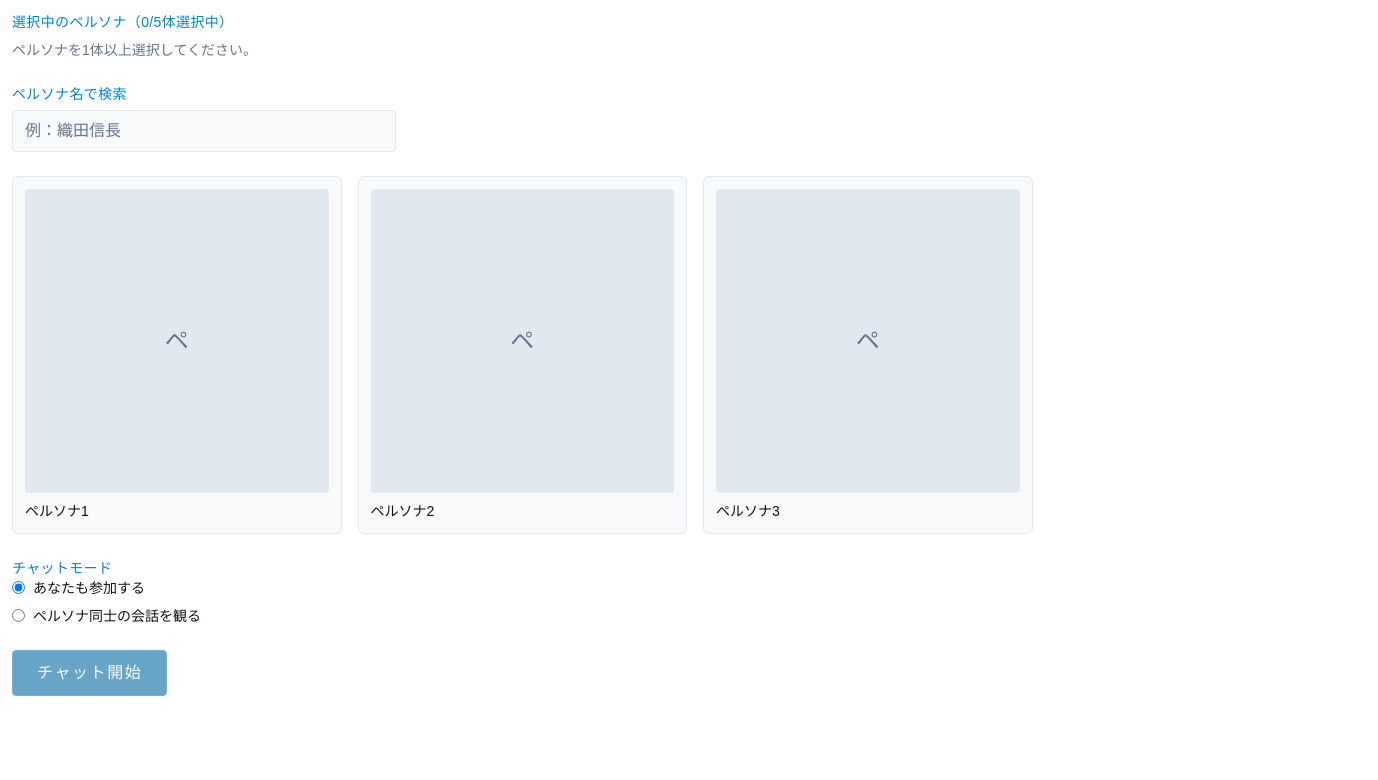
Test: PersonaSelector › 作成失敗時はエラーメッセージを表示し、選択状態を保持する
The image size is (1378, 780).
Click the button "ペ ペルソナ1". click: (177, 355)
box: [12, 176, 342, 534]
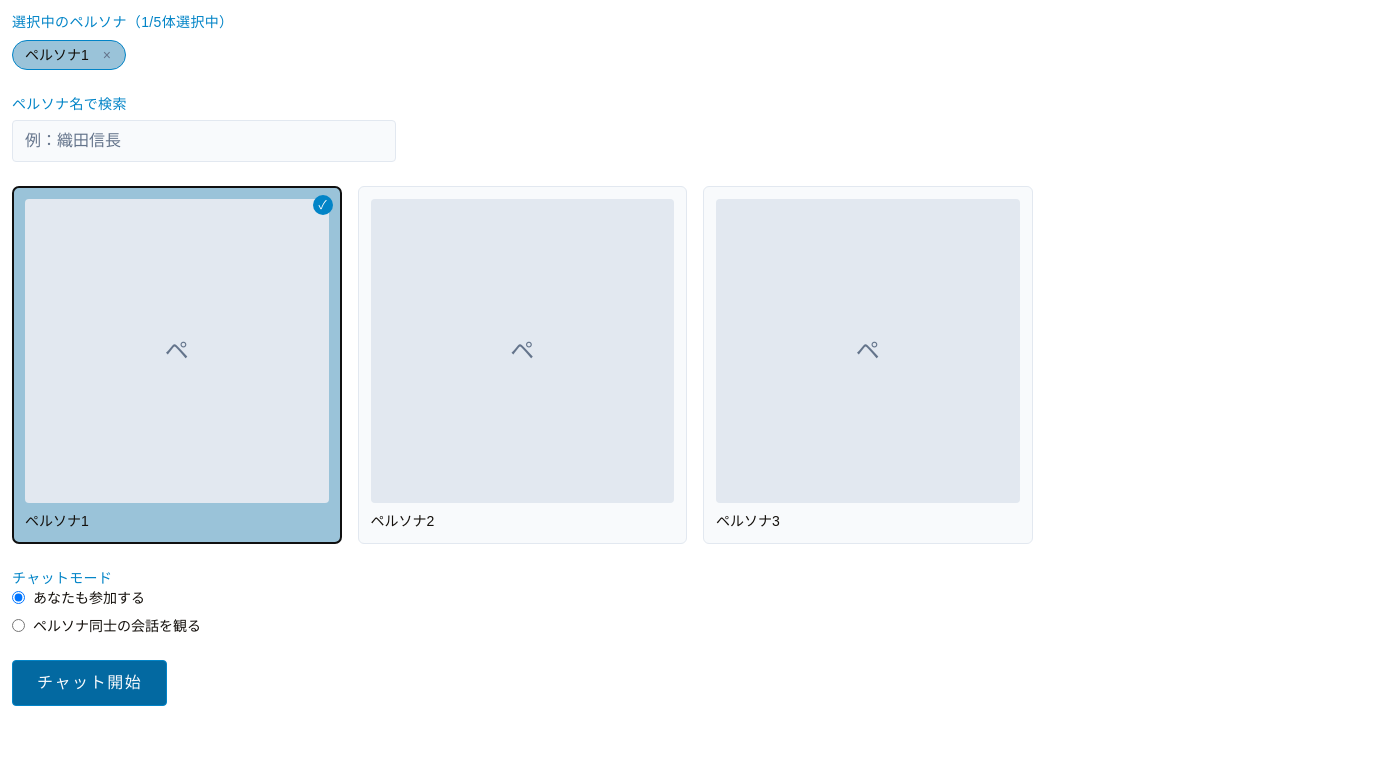
Click the button "チャット開始". click: (90, 682)
box: [12, 660, 168, 706]
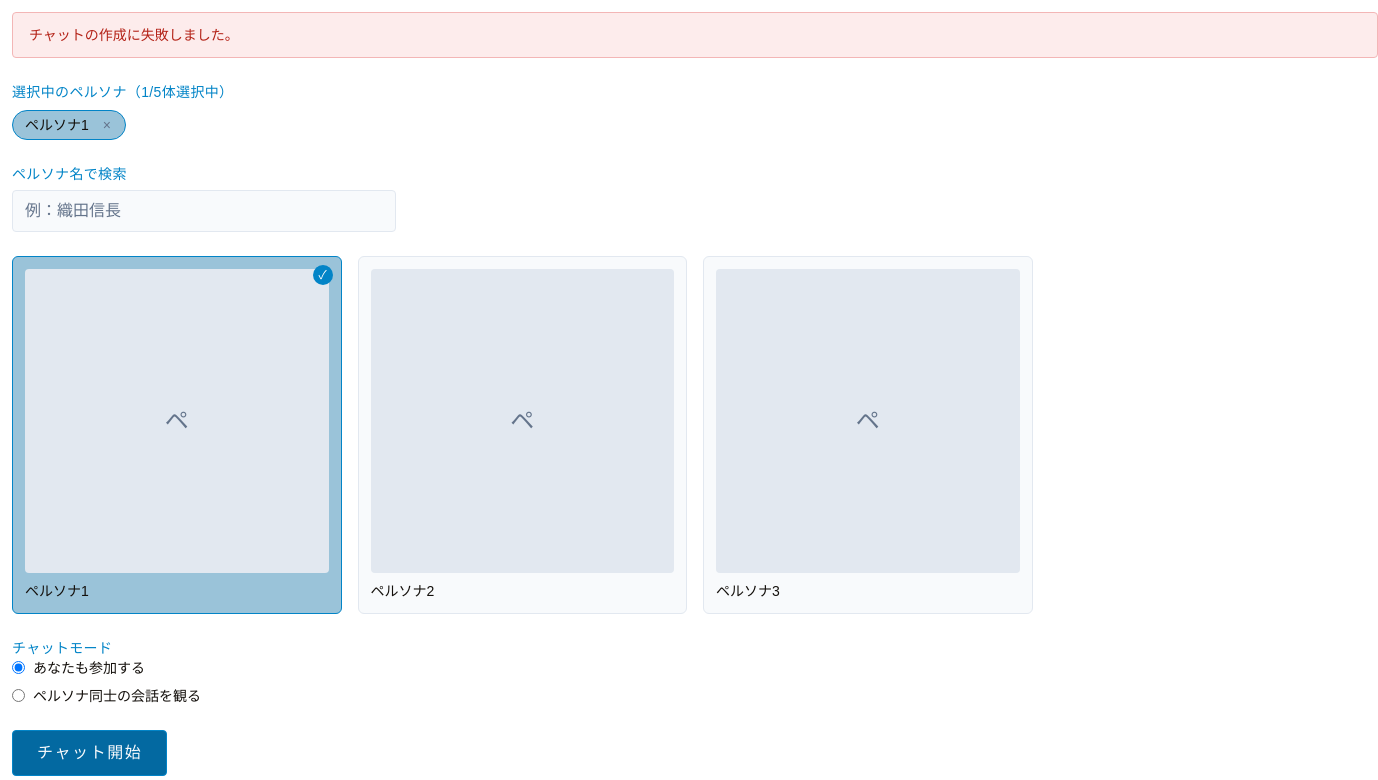
Expected: the heading "選択中のペルソナ（1/5体選択中）" is shown, [12, 84, 233, 100]
Expected: the text "チャットの作成に失敗しました。" is shown, [12, 12, 1377, 58]
